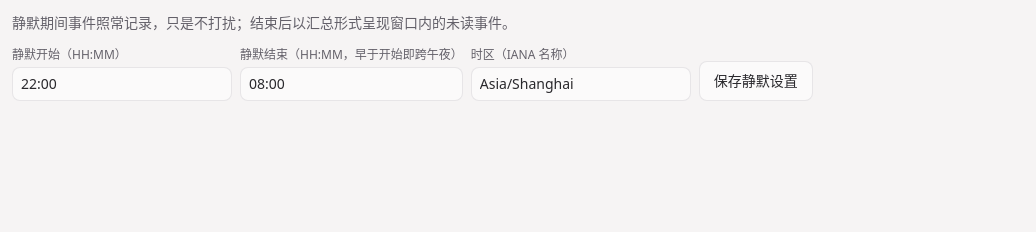
NEW-393 静默时段 › 保存静默设置 PUT 窗口+时区；汇总显示真实计数
The width and height of the screenshot is (1036, 232).
Click the button "保存静默设置": point(756, 81) 699,61 -> 813,101
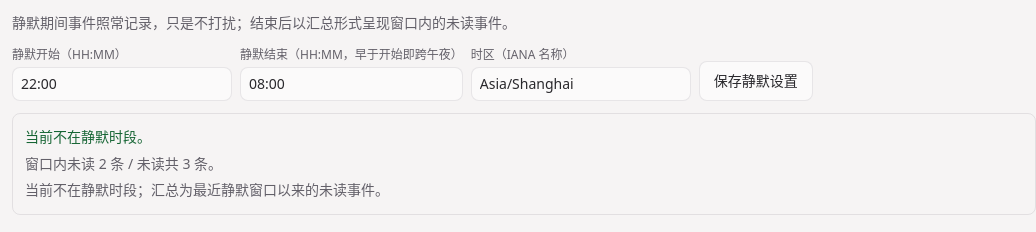
Now the text "窗口内未读 2 条 / 未读共 3 条。" is shown, box 25,154 -> 222,172
